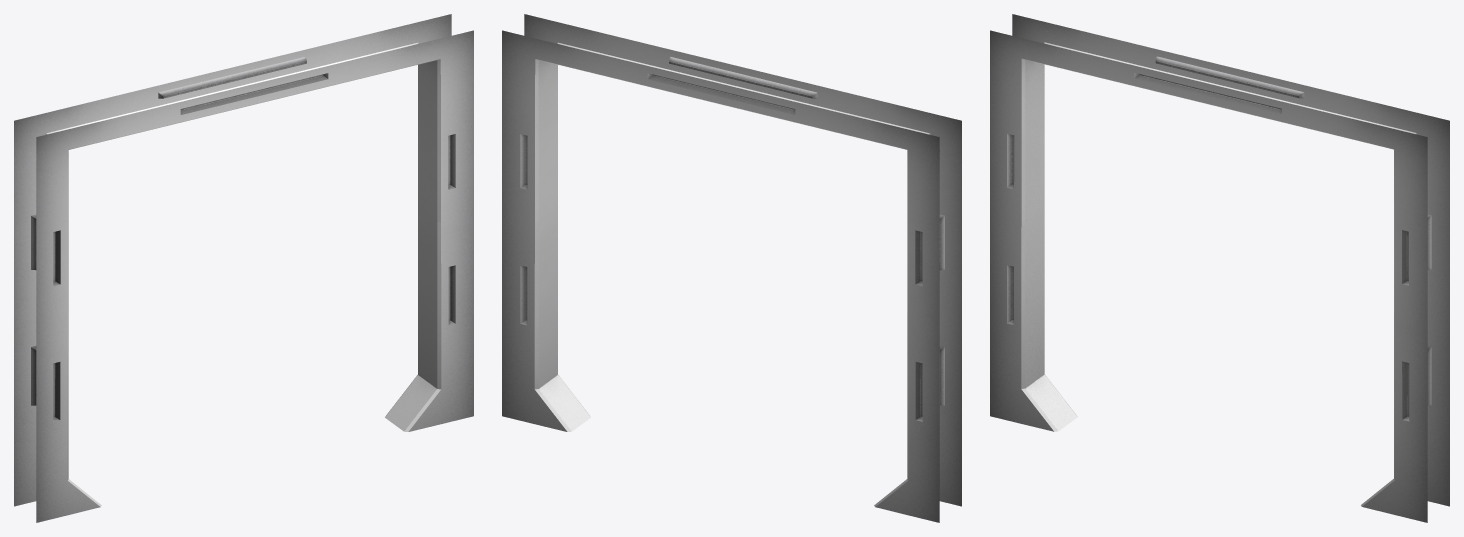
Rendered from wall_panel_frame.FBX.
The picture shows the model from 3 angles, left to right: view 1: azimuth 30°, elevation 25°; view 2: azimuth 150°, elevation 25°; view 3: azimuth 330°, elevation 25°; orthographic projection.
Visible parts, largest first — view 1: Object005; view 2: Object005; view 3: Object005.
Part boxes in pixels (<box>): Object005: <box>14,14,473,522</box>; Object005: <box>502,14,961,522</box>; Object005: <box>990,14,1449,522</box>.
Size of the model in its own units: 4.82 by 4.06 by 0.4272.
1 material, 1 textured.
